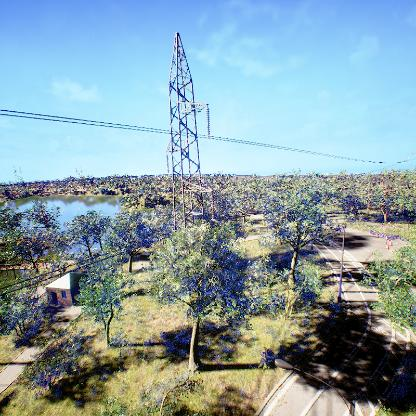tower: (158, 34, 215, 255)
